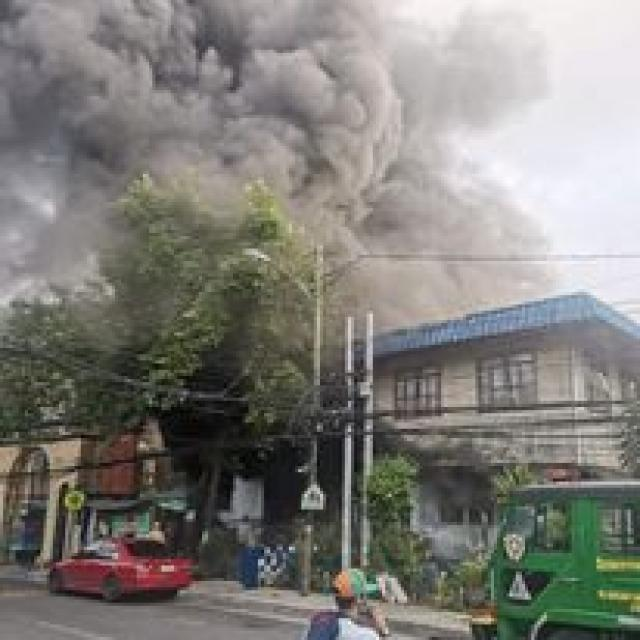Smoke: (0, 0, 561, 335)
